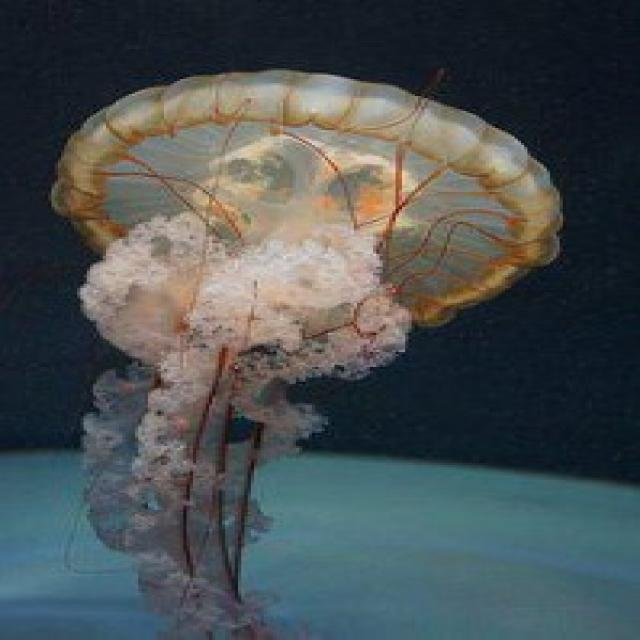Jellyfish: (18, 58, 558, 640)
